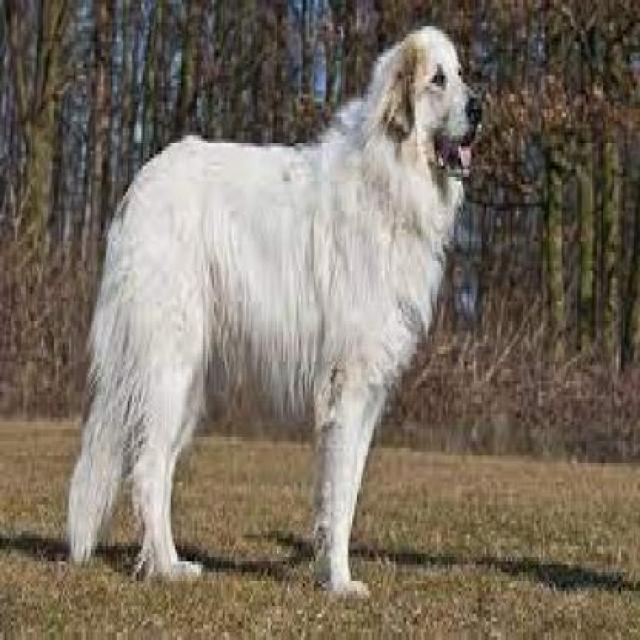animals: (38, 20, 510, 618)
